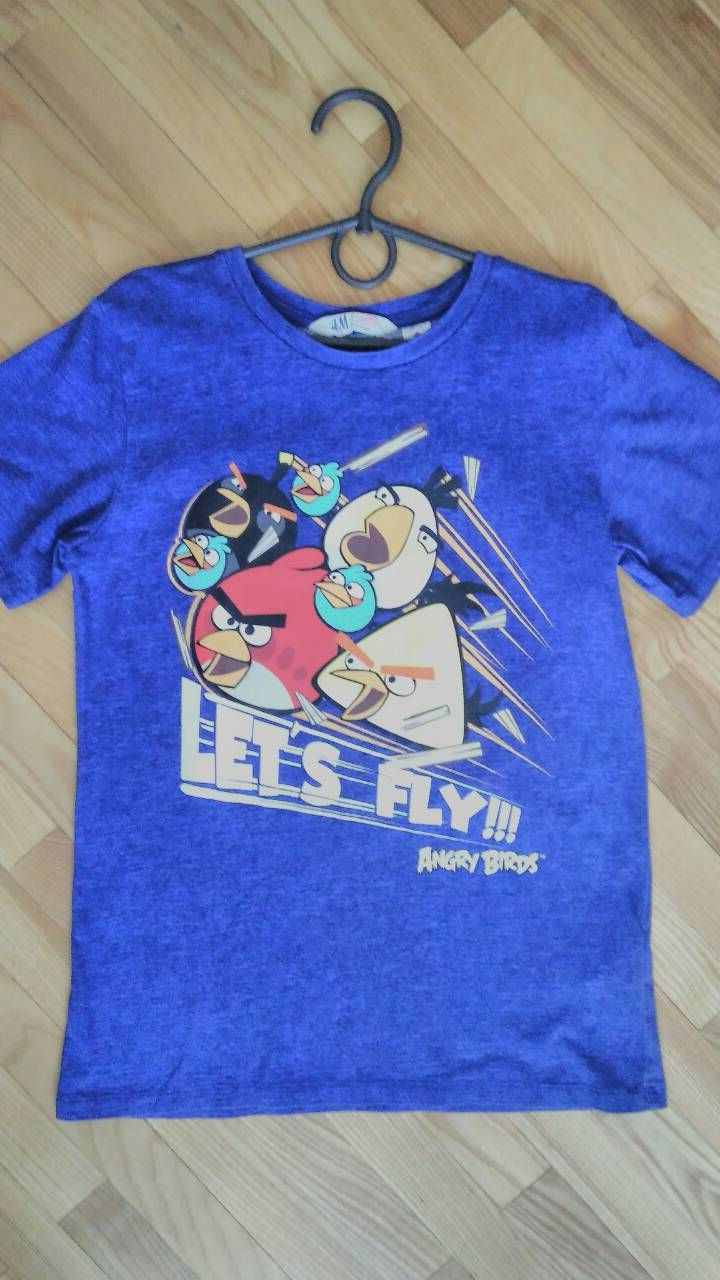clothes: (8, 239, 714, 1130)
